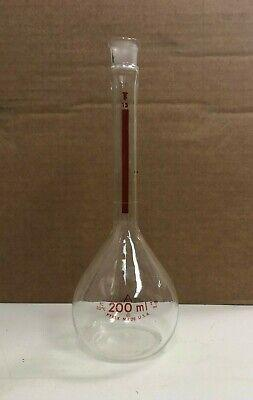Volumetric flask: (70, 36, 185, 365)
